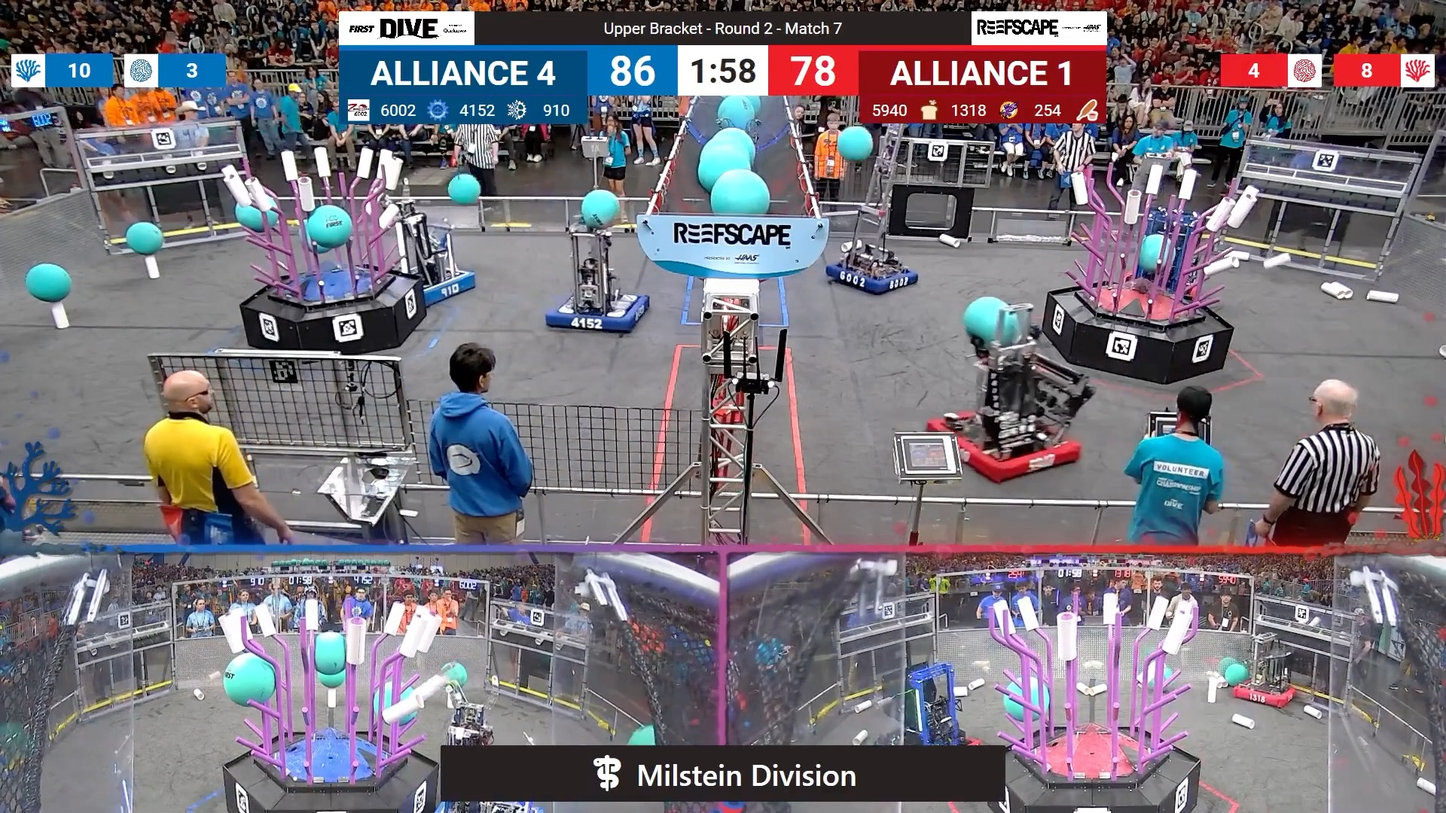bumpers: (927, 411, 1097, 488), (545, 290, 659, 336), (818, 257, 923, 296), (392, 264, 478, 307), (1228, 679, 1306, 711)
